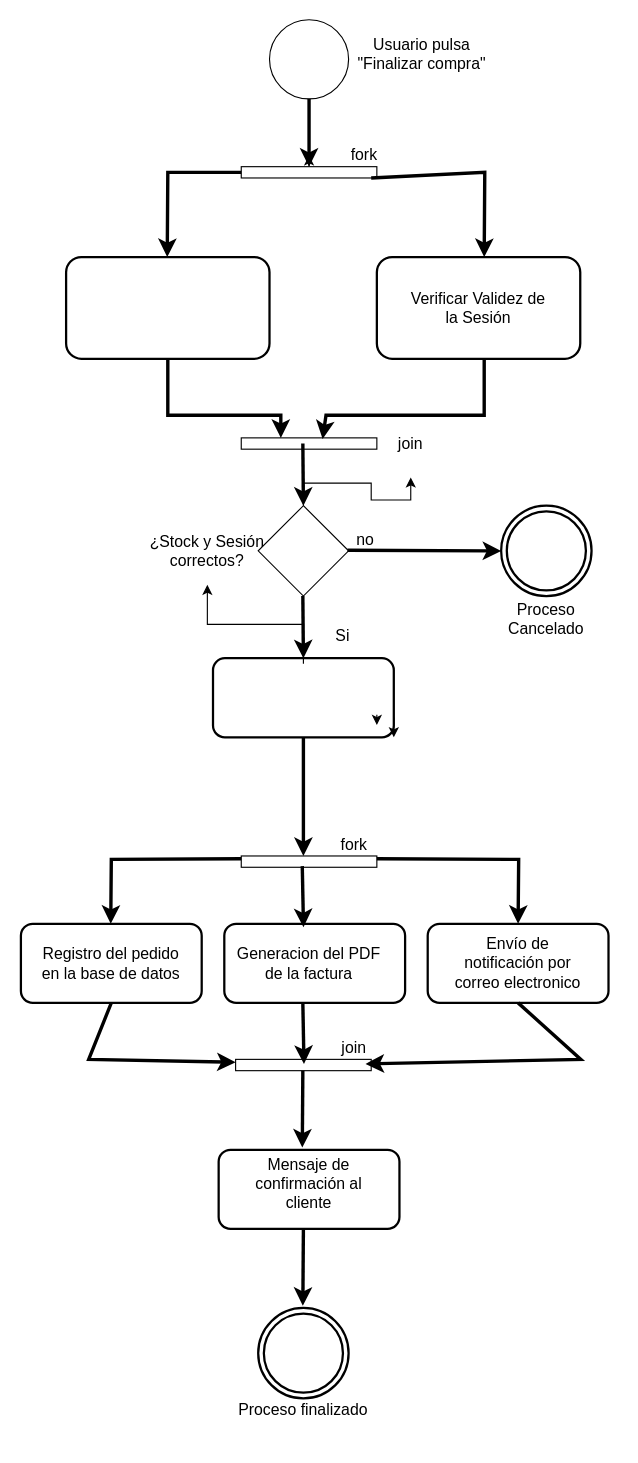
Image size: 638x1463. Some labels were removed from this diagram. The shapes that lost their labels are listed below. From the top down, each one's centre as x and y in pixels, then its label:
point (167, 307): Verificar Stock
point (302, 697): Proceder a Pasarela de Pago Segura
